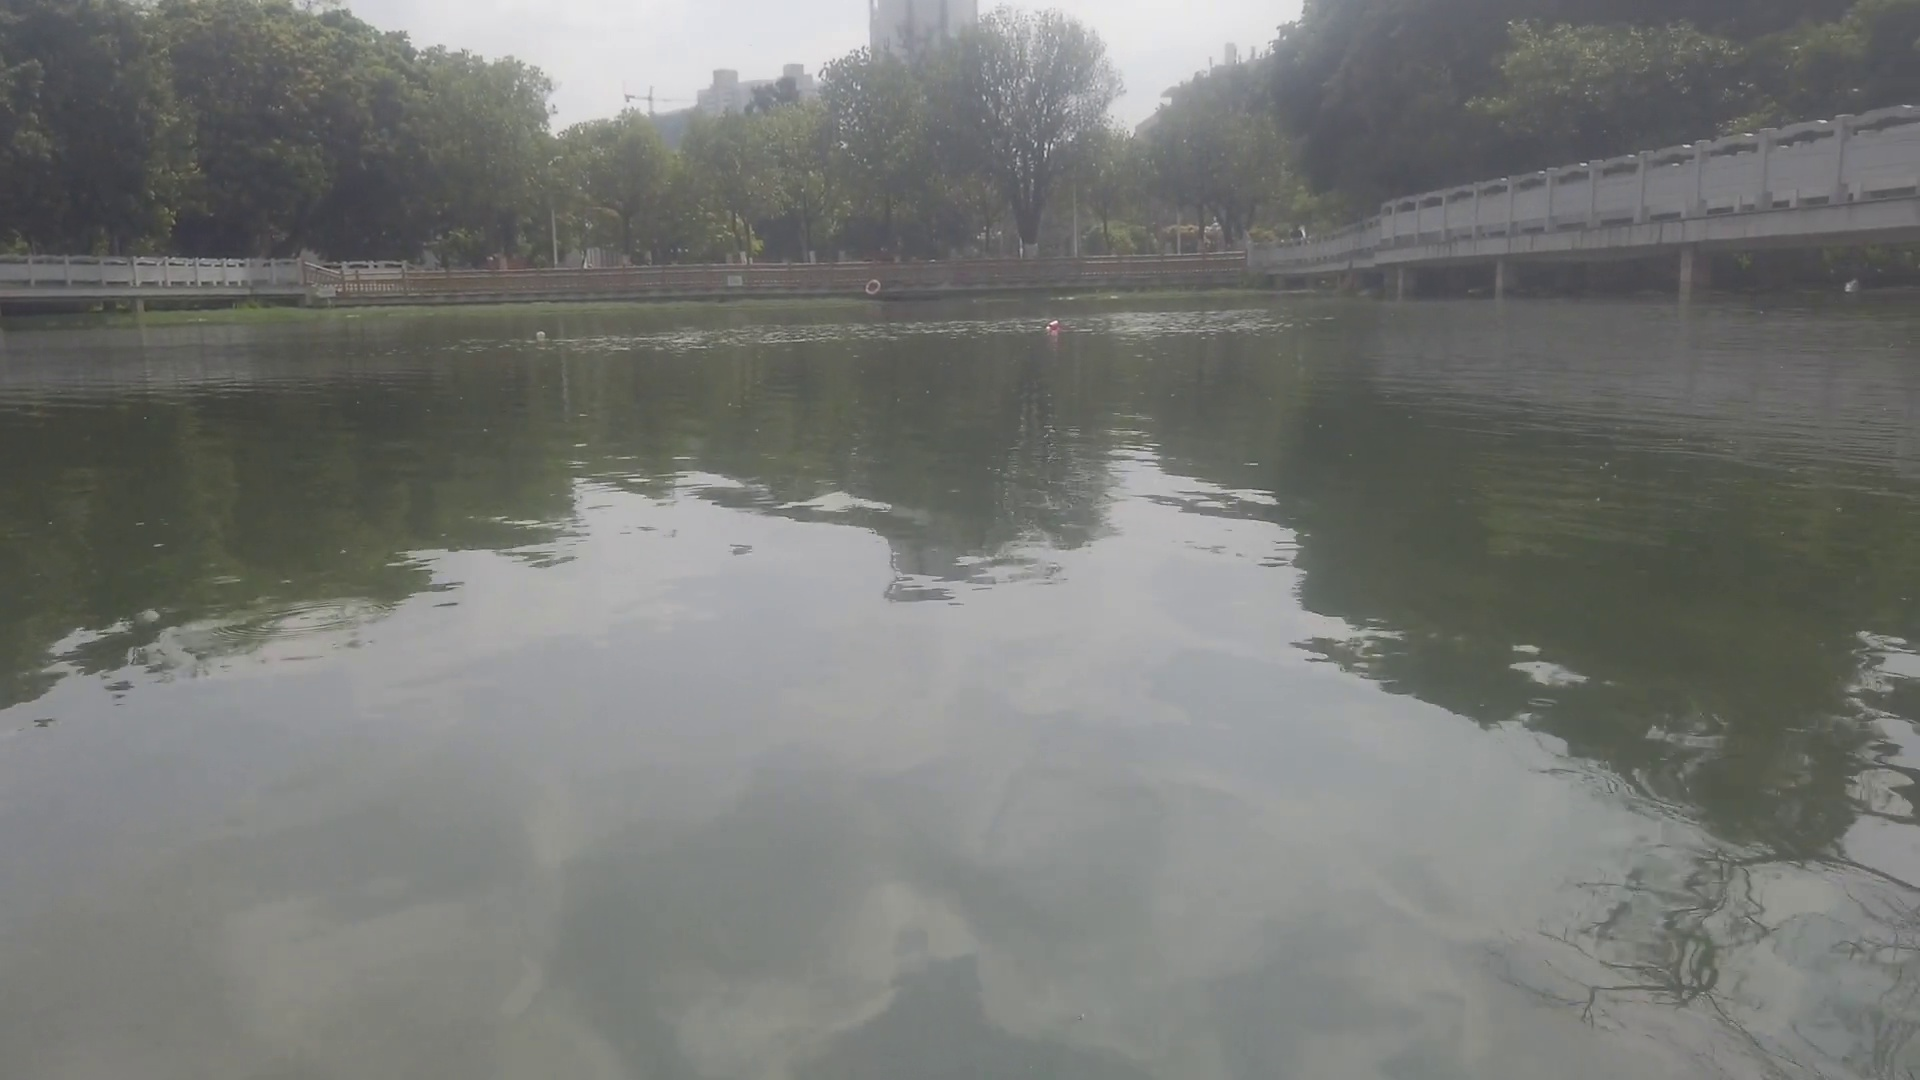bottle: (1044, 313, 1060, 334), (533, 328, 549, 342)
